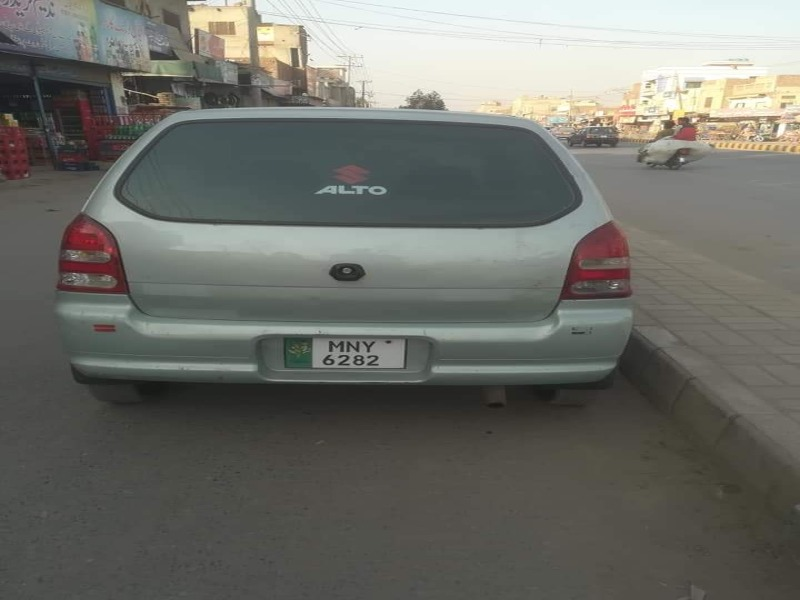License Plate: (279, 334, 412, 374)
